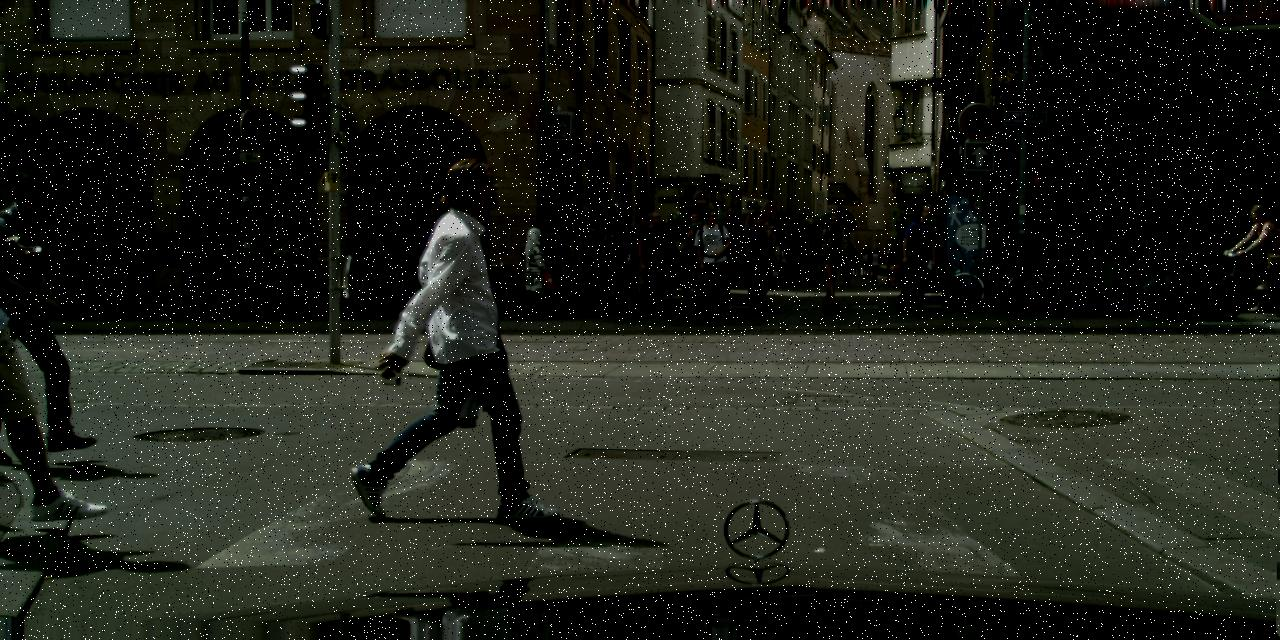ped: (387, 156, 532, 512), (0, 101, 87, 528), (0, 171, 86, 456), (692, 208, 736, 314), (896, 204, 940, 310), (629, 211, 672, 315), (735, 210, 776, 312), (677, 209, 717, 310), (812, 212, 852, 310), (525, 218, 564, 316), (1242, 203, 1279, 301), (516, 227, 553, 319), (744, 220, 780, 308), (1141, 219, 1176, 307), (1190, 218, 1225, 304), (88, 217, 123, 302), (1135, 218, 1169, 304), (654, 228, 681, 296), (666, 228, 691, 293), (836, 238, 856, 285), (788, 238, 806, 282), (769, 242, 785, 284), (804, 240, 820, 280), (786, 243, 801, 283), (868, 249, 880, 280), (859, 249, 870, 277), (851, 250, 861, 276), (863, 249, 873, 275), (848, 250, 858, 275)
